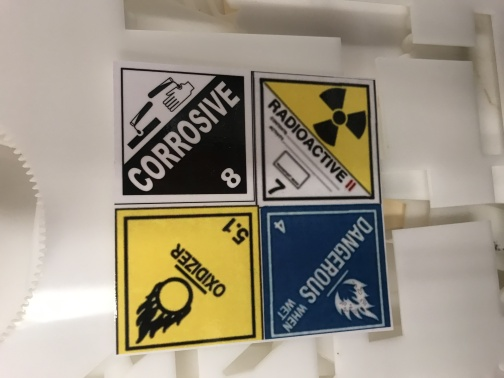Corrosive: (113, 61, 256, 205)
DangerousWhenWet: (261, 207, 390, 339)
Oxidizer: (115, 209, 262, 357)
Radioactive: (254, 70, 383, 208)
